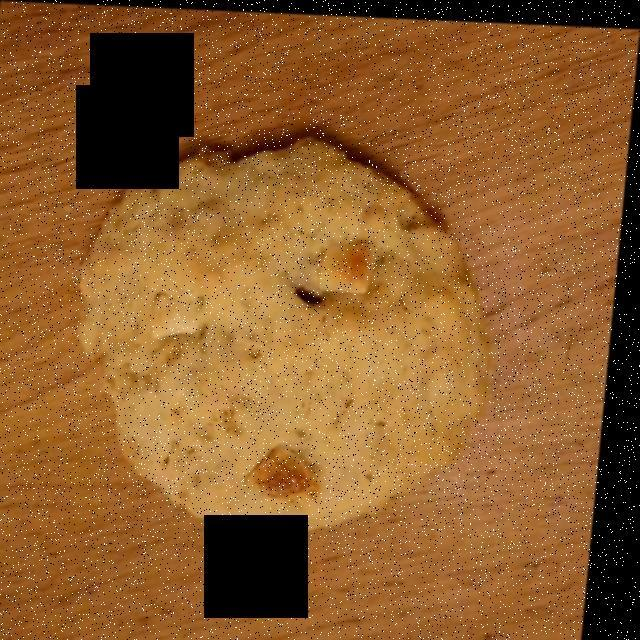cookies: (86, 142, 494, 527)
